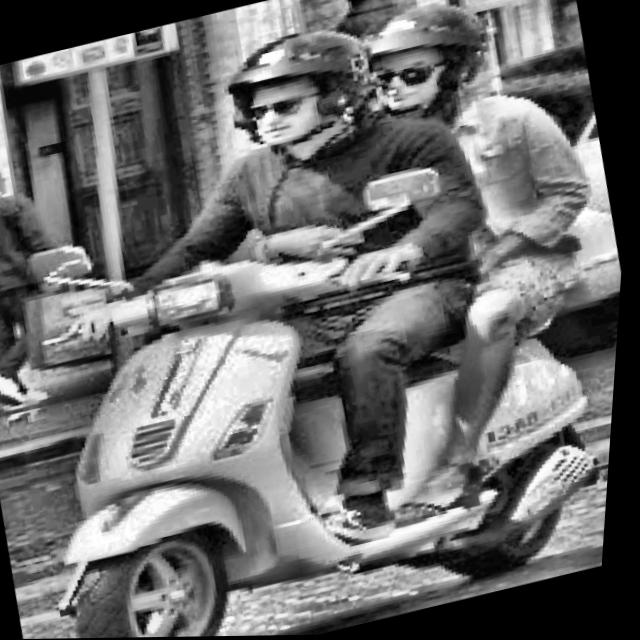motorcycle: (0, 83, 635, 640)
